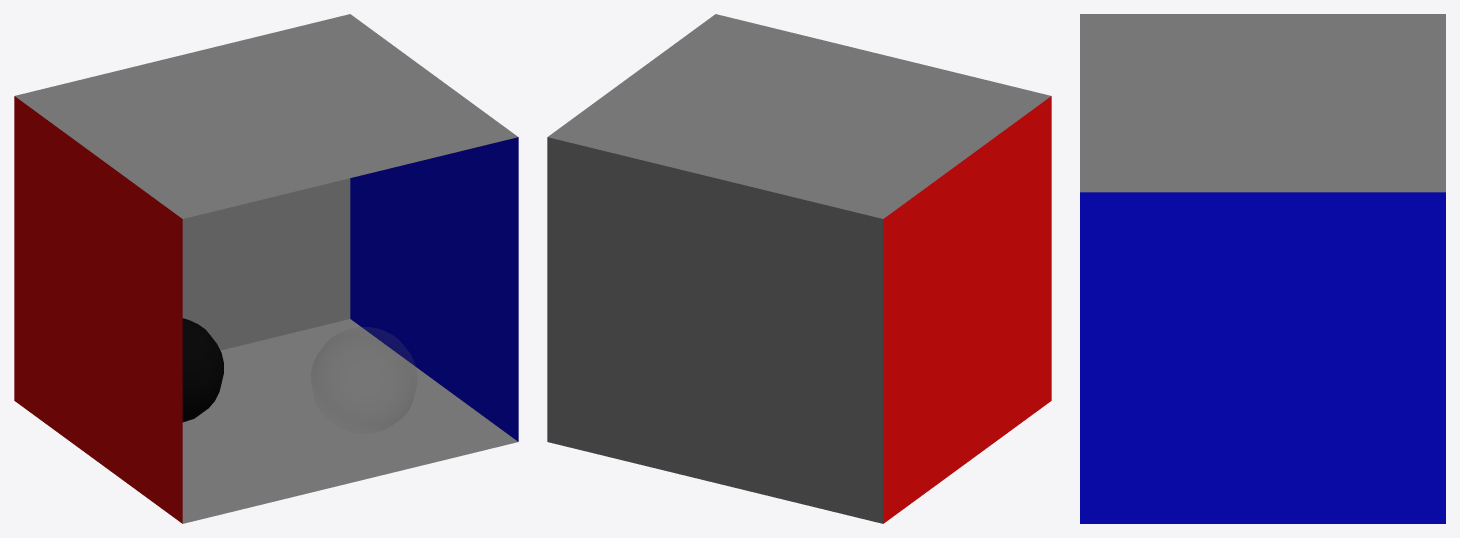
The picture shows the model from 3 angles, left to right: view 1: azimuth 30°, elevation 25°; view 2: azimuth 150°, elevation 25°; view 3: azimuth 270°, elevation 25°; orthographic projection. The views are drawn at different scales.
Parts seen in each view (by area): view 1: pWall1, pWall3, pWall2, pSphere2, pSphere1; view 2: pWall1, pWall3; view 3: pWall2, pWall1.
Boxes of the visible parts, box(x1,y1,x2,y2) form: pWall1: box(15, 14, 517, 523); pWall3: box(14, 96, 182, 523); pWall2: box(350, 137, 518, 441); pSphere2: box(311, 327, 416, 433); pSphere1: box(182, 318, 223, 422); pWall1: box(547, 14, 1050, 523); pWall3: box(883, 96, 1051, 523); pWall2: box(1080, 192, 1445, 523); pWall1: box(1080, 14, 1445, 192).
Bounding box in the file's own units: 11.53 × 10 × 10.
